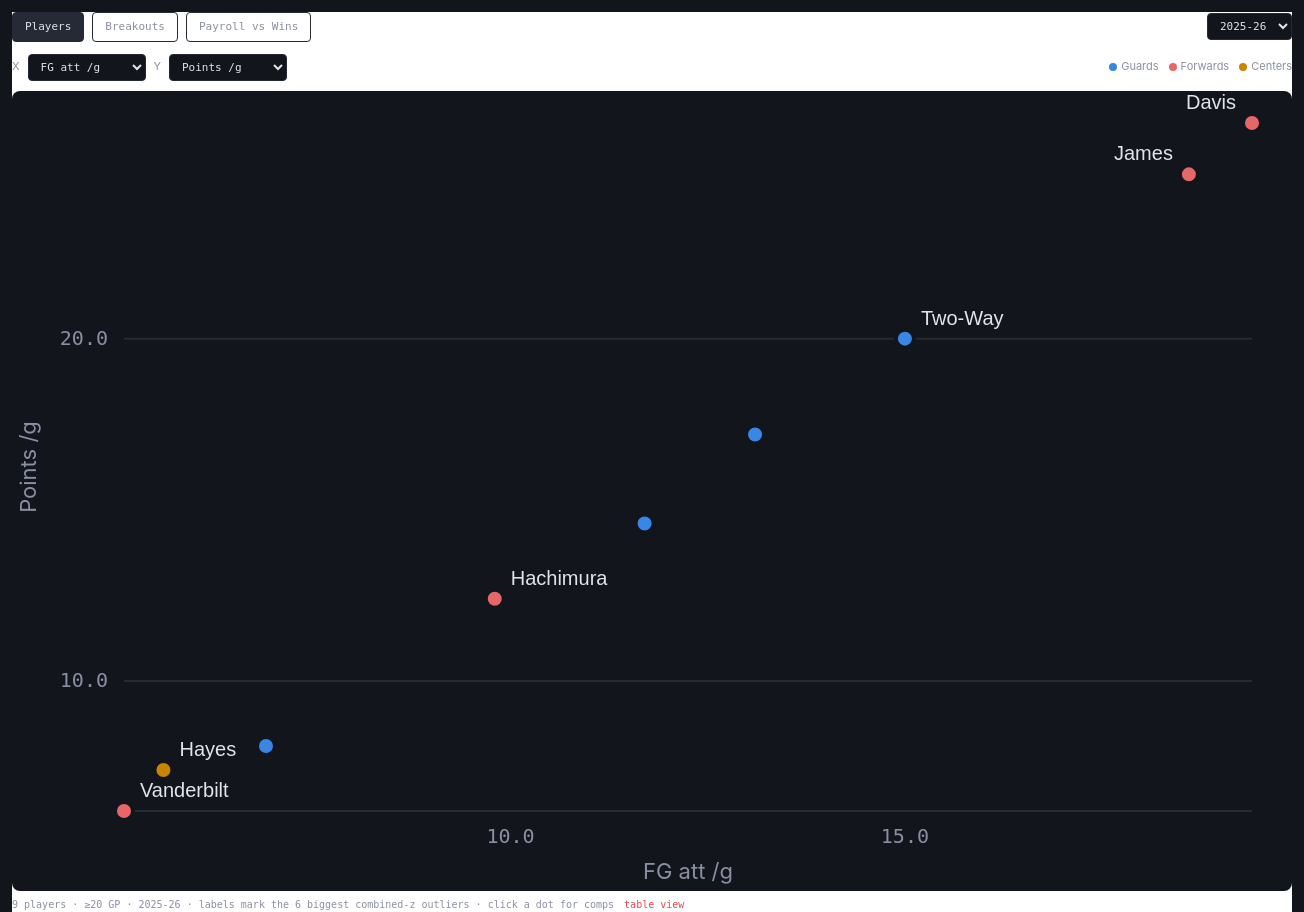
it: LeagueLens — scatter view › drops unsigned players when an axis is switched to salary
Expected: the text "9 players" is shown, [12, 897, 684, 911]
Select "Salary" in the dropdown named "X axis stat": {"x": 86, "y": 67} [28, 54, 146, 81]
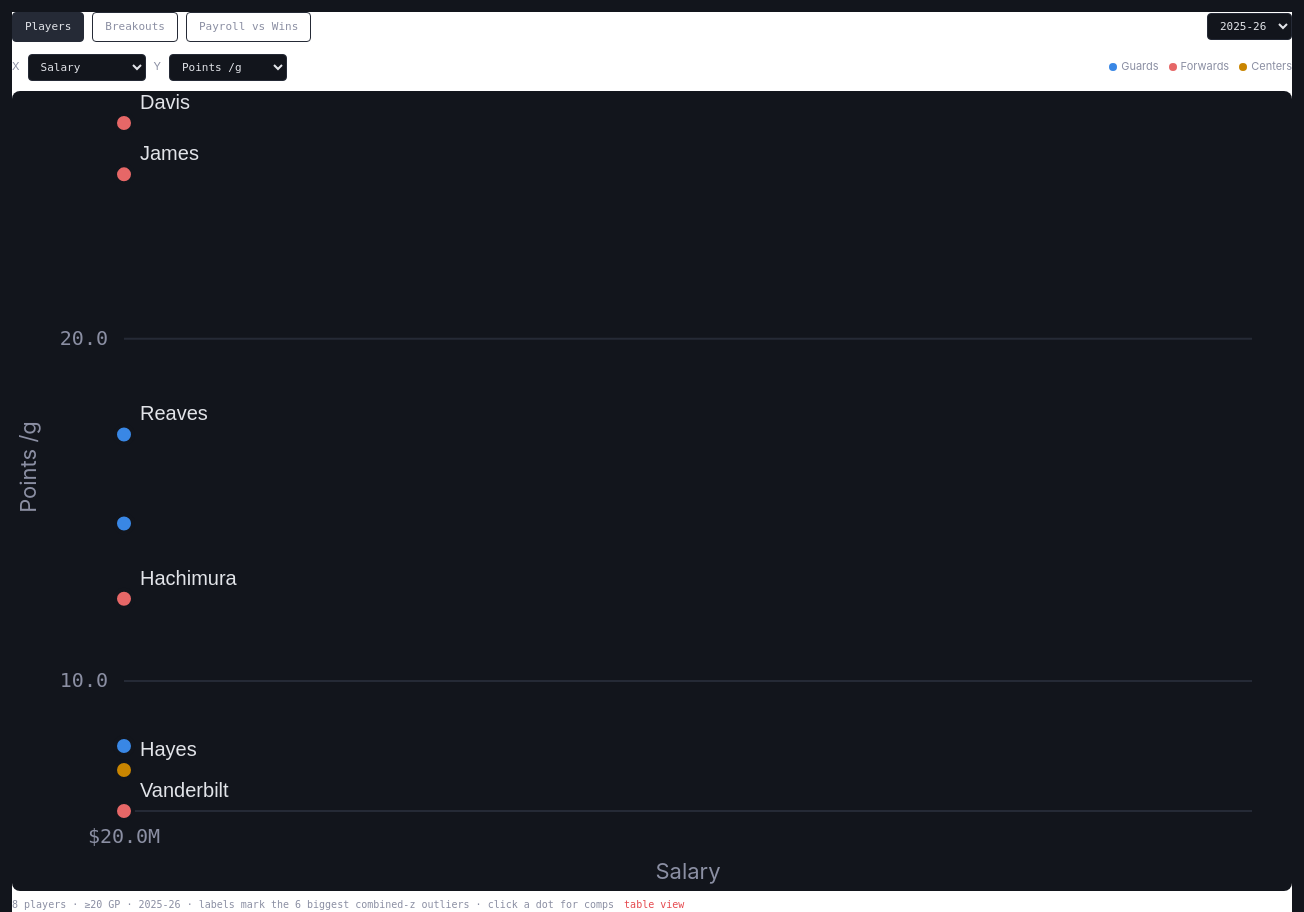
Now the text "8 players" is shown, box [12, 897, 684, 911]
